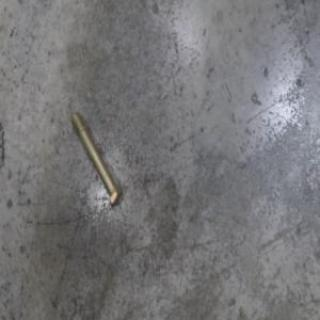Bolttrack_idkeyframe: (70, 109, 122, 207)
